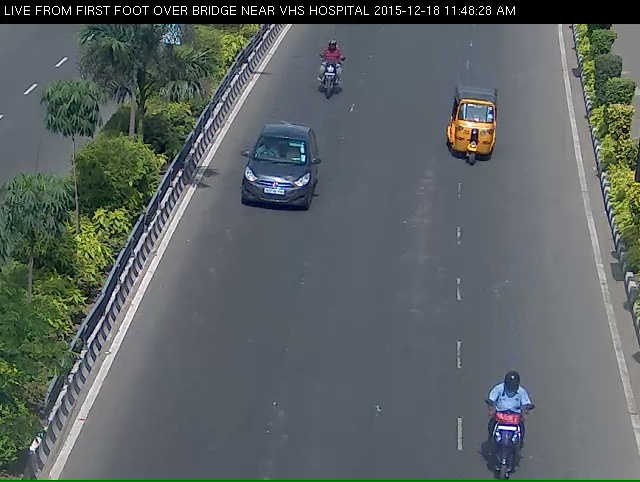Auto: (447, 93, 500, 176)
Car: (234, 126, 316, 228)
Person: (469, 400, 536, 480), (310, 48, 345, 108)
